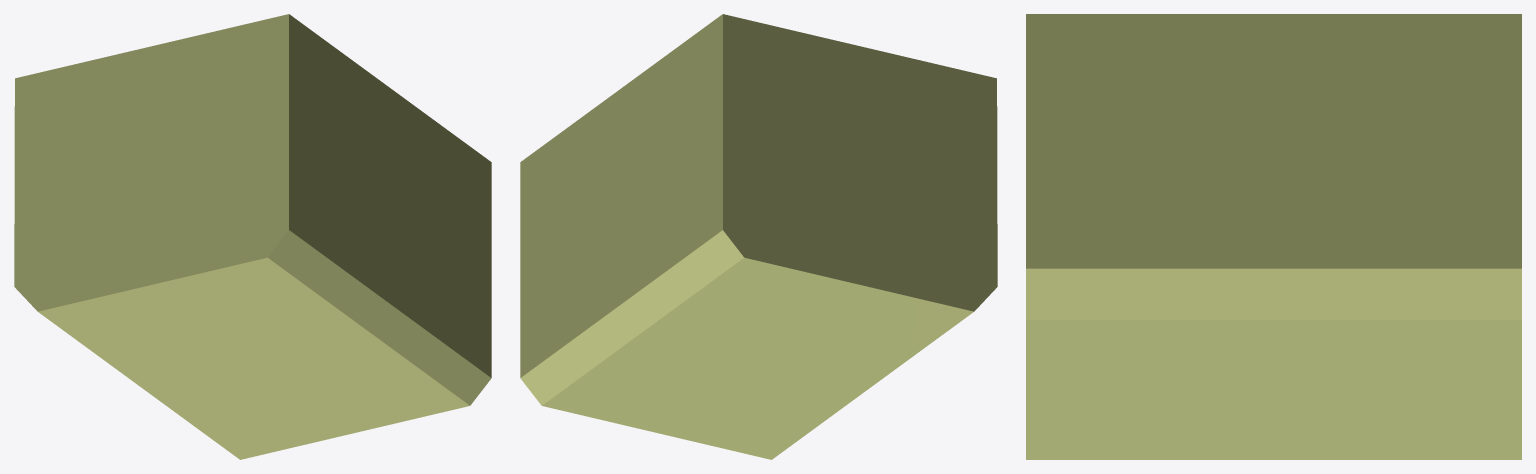
3 views of the same model, side by side, from view 1: azimuth 30°, elevation 25°; view 2: azimuth 150°, elevation 25°; view 3: azimuth 270°, elevation 25° (orthographic). The views are drawn at different scales.
Parts seen in each view (by area): view 1: 0_0_3_1_3_2_3_2_1_2_0; view 2: 0_0_3_1_3_2_3_2_1_2_0; view 3: 0_0_3_1_3_2_3_2_1_2_0.
Part boxes in pixels (bbox=[...]): 0_0_3_1_3_2_3_2_1_2_0: bbox=[14, 14, 491, 459]; 0_0_3_1_3_2_3_2_1_2_0: bbox=[520, 14, 997, 459]; 0_0_3_1_3_2_3_2_1_2_0: bbox=[1026, 14, 1521, 459].
Size of the model in its own units: 7.05 by 5.91 by 9.
